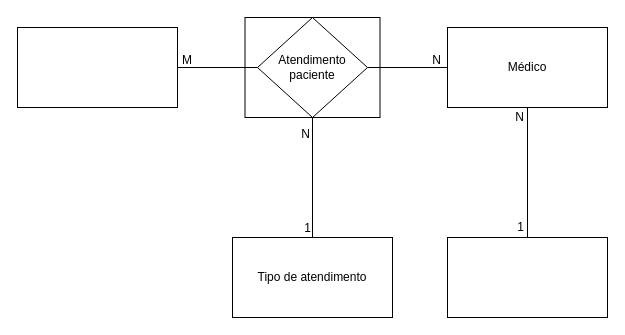
Image size: 625x335. Some labels were removed from this diagram. The shapes that lost their labels are listed below. From the top down, each one's centre as x and y in pixels, then its label:
At point (97, 67): "Paciente".
At point (527, 277): "Especialidade".
